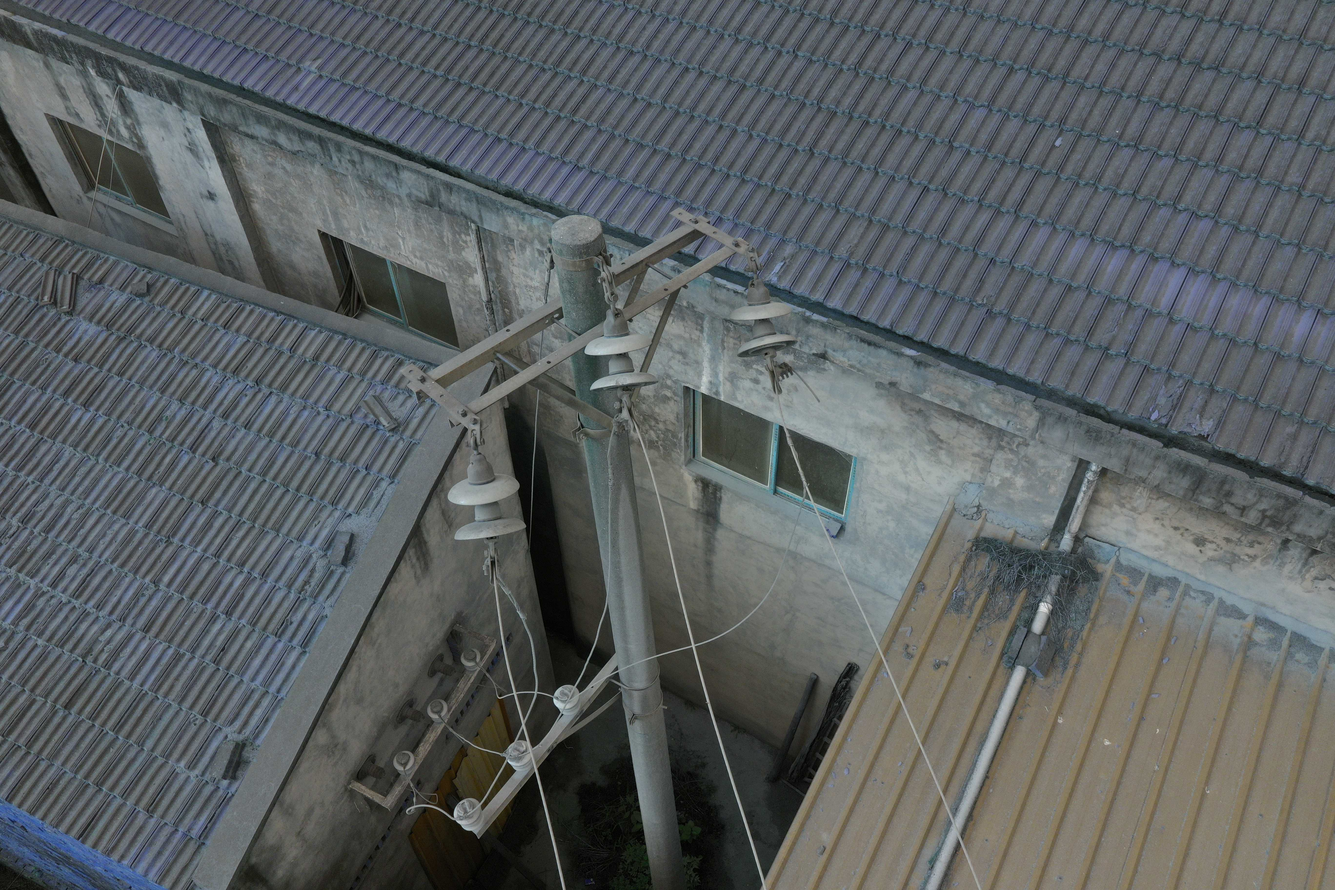severe_soiling_no_discharge_whole: (503, 739, 537, 772)
